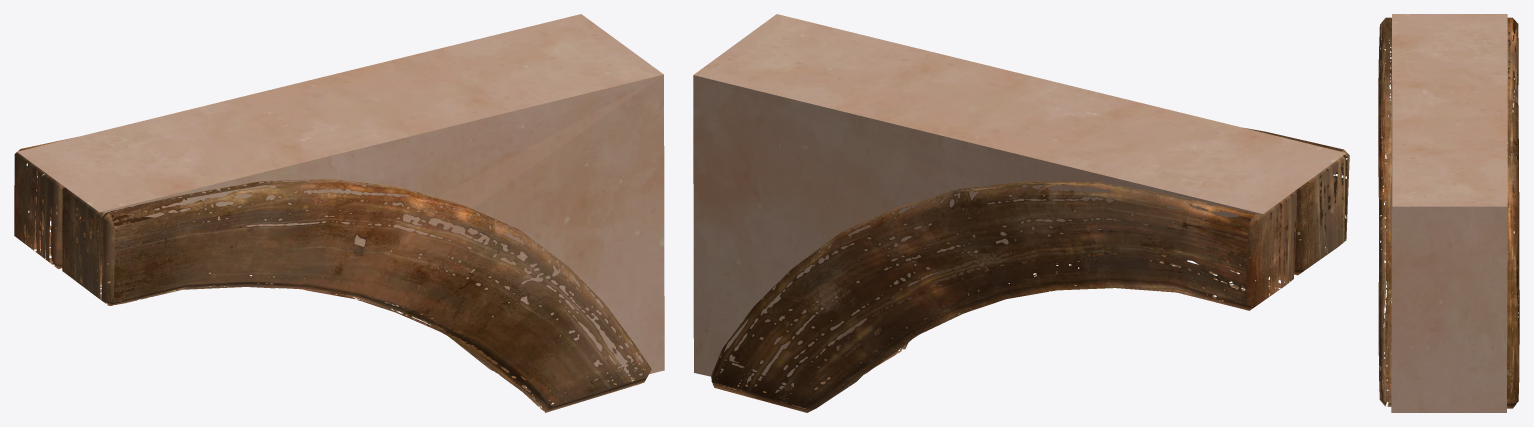
3 renders of one model, left to right at view 1: azimuth 30°, elevation 25°; view 2: azimuth 150°, elevation 25°; view 3: azimuth 270°, elevation 25°, orthographic. The views are drawn at different scales.
Parts seen in each view (by area): view 1: SM_BB_T4_Wall_Slanted_Shallow_Med_Inverted_Curved_LOD0; view 2: SM_BB_T4_Wall_Slanted_Shallow_Med_Inverted_Curved_LOD0; view 3: SM_BB_T4_Wall_Slanted_Shallow_Med_Inverted_Curved_LOD0.
Part boxes in pixels (x1,y1,x2,y2): SM_BB_T4_Wall_Slanted_Shallow_Med_Inverted_Curved_LOD0: (14,14,664,412); SM_BB_T4_Wall_Slanted_Shallow_Med_Inverted_Curved_LOD0: (693,14,1349,412); SM_BB_T4_Wall_Slanted_Shallow_Med_Inverted_Curved_LOD0: (1378,14,1519,412).
Size of the model in its own units: 1.5 by 0.7763 by 0.4657.
2 materials, 2 textured.
